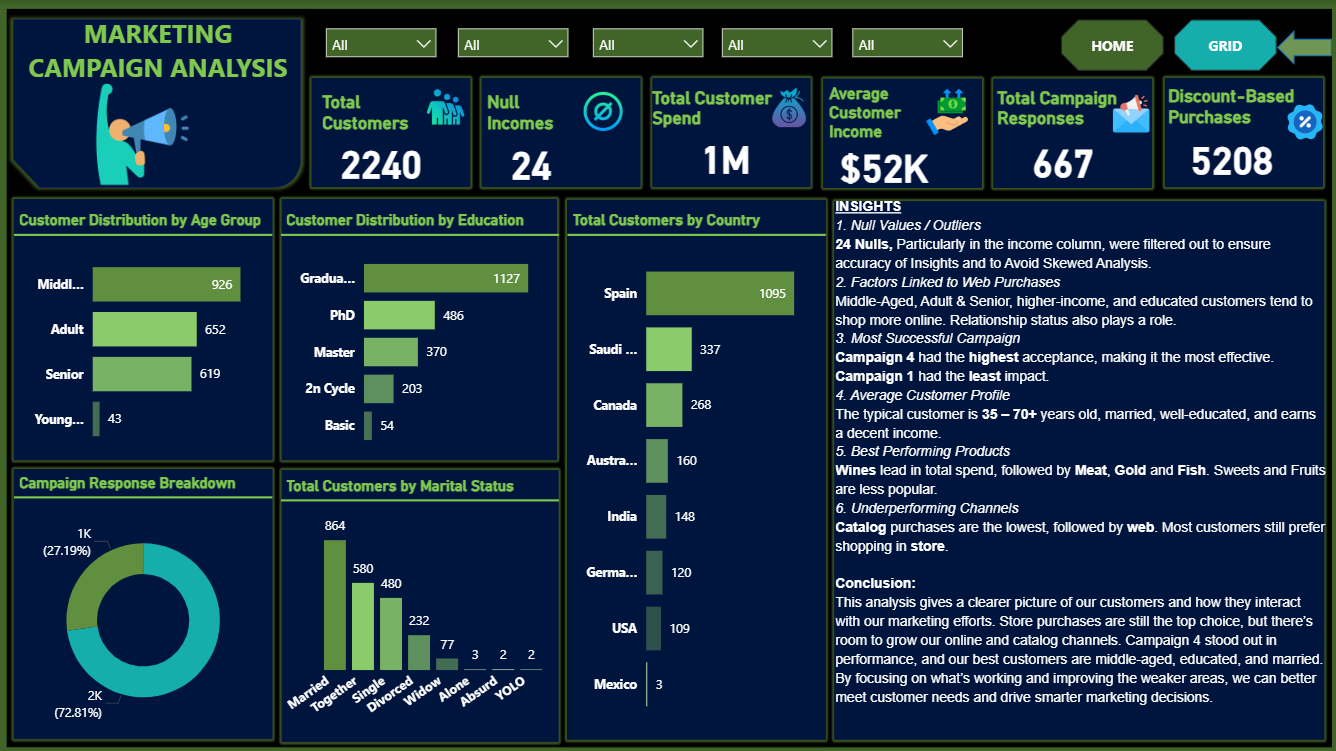

This screenshot's page, from the dashboard's own definition file:
{"tool":"powerbi","page":{"name":"GRID","canvas":[1280,720],"ordinal":1},"visuals":[{"type":"barChart","title":"Customer Distribution by Age Group","fields":{"Category":["marketing_data.Age Group"],"Y":["Measure Table.Total Customers"]},"box":[14.3,202,246.5,238.6],"z":0},{"type":"barChart","title":"Customer Distribution by Education","fields":{"Y":["Measure Table.Total Customers"],"Category":["marketing_data.Education"]},"box":[268.8,202,265.6,238.6],"z":1000},{"type":"columnChart","fields":{"Y":["Measure Table.Total Customers"],"Category":["marketing_data.Marital Status"]},"box":[268.8,454.9,265.6,246.5],"z":2000},{"type":"textbox","box":[14.3,9.5,275.2,95.4],"z":3000},{"type":"card","title":"Total Customers","fields":{"Values":["Measure Table.Total Customers"]},"box":[303.8,87.5,122.5,93.8],"z":4000},{"type":"image","box":[402.4,68.4,47.7,66.8],"z":5000},{"type":"card","title":"Total Campaign Responses","fields":{"Values":["Measure Table.Total Accepted Campaigns"]},"box":[948,82.7,135.2,100.2],"z":6000},{"type":"pageNavigator","box":[1014.8,19.1,206.8,49.3],"z":7000},{"type":"shape","box":[1220,28.6,52.5,33.4],"z":8000},{"type":"card","title":"Null Incomes","fields":{"Values":["Measure Table.null Incomes"]},"box":[461.1,86.8,93.8,95.4],"z":9000},{"type":"image","box":[553.3,72.5,47.7,66.8],"z":10000},{"type":"card","title":"Total Customer Spend","fields":{"Values":["Measure Table.Total Spend"]},"box":[618.5,83.6,149.5,93.8],"z":11000},{"type":"image","box":[729.9,69.3,47.7,68.4],"z":12000},{"type":"card","title":"Average Customer Income","fields":{"Values":["Measure Table.Average Income"]},"box":[787.4,79.5,114.5,100.2],"z":13000},{"type":"image","box":[878,70,54.1,73.2],"z":14000},{"type":"card","title":"Discount-Based Purchases","fields":{"Values":["Measure Table.Discount Purchases"]},"box":[1111.8,81.1,130.4,98.6],"z":15000},{"type":"barChart","fields":{"Category":["marketing_data.Country"],"Y":["Measure Table.Total Customers"]},"box":[542.4,202,246.5,499.5],"z":16000},{"type":"slicer","fields":{"Values":["marketing_data.Age Group"]},"box":[302.2,17.5,125.7,60.4],"z":17000},{"type":"slicer","fields":{"Values":["marketing_data.Education"]},"box":[427.9,17.5,125.7,60.4],"z":18000},{"type":"slicer","fields":{"Values":["marketing_data.Marital Status"]},"box":[556.7,17.5,125.7,60.4],"z":19000},{"type":"slicer","fields":{"Values":["Channels.Channel"]},"box":[680.8,17.5,125.7,60.4],"z":20000},{"type":"slicer","fields":{"Values":["marketing_data.Campaign Accepted"]},"box":[804.8,17.5,125.7,60.4],"z":21000},{"type":"textbox","box":[793.7,182.4,478.8,537.6],"z":22000},{"type":"donutChart","title":"Campaign Response Breakdown","fields":{"Category":["marketing_data.Campaign Accepted"],"Y":["Measure Table.Total Customers"]},"box":[14.3,453.3,246.5,256.1],"z":23000},{"type":"image","box":[1057.8,74.8,47.7,68.4],"z":24000},{"type":"image","box":[1223.2,82.7,47.7,66.8],"z":25000},{"type":"image","box":[68.4,65.2,136.8,124.1],"z":26000}]}

Visuals, with their boxes in screenshot pixels (x1, y1, x2, y2), scaled from the page's 1280x720 canvas onto the 1336x751 screenshot:
"Customer Distribution by Age Group" barChart: [left=15, top=211, right=272, bottom=460]
"Customer Distribution by Education" barChart: [left=281, top=211, right=558, bottom=460]
columnChart - Measure Table.Total Customers x marketing_data.Marital Status: [left=281, top=474, right=558, bottom=732]
textbox: [left=15, top=10, right=302, bottom=109]
"Total Customers" card: [left=317, top=91, right=445, bottom=189]
image: [left=420, top=71, right=470, bottom=141]
"Total Campaign Responses" card: [left=989, top=86, right=1131, bottom=191]
pageNavigator: [left=1059, top=20, right=1275, bottom=71]
shape: [left=1273, top=30, right=1328, bottom=65]
"Null Incomes" card: [left=481, top=91, right=579, bottom=190]
image: [left=578, top=76, right=627, bottom=145]
"Total Customer Spend" card: [left=646, top=87, right=802, bottom=185]
image: [left=762, top=72, right=812, bottom=144]
"Average Customer Income" card: [left=822, top=83, right=941, bottom=187]
image: [left=916, top=73, right=973, bottom=149]
"Discount-Based Purchases" card: [left=1160, top=85, right=1297, bottom=187]
barChart - marketing_data.Country x Measure Table.Total Customers: [left=566, top=211, right=823, bottom=732]
slicer - marketing_data.Age Group: [left=315, top=18, right=447, bottom=81]
slicer - marketing_data.Education: [left=447, top=18, right=578, bottom=81]
slicer - marketing_data.Marital Status: [left=581, top=18, right=712, bottom=81]
slicer - Channels.Channel: [left=711, top=18, right=842, bottom=81]
slicer - marketing_data.Campaign Accepted: [left=840, top=18, right=971, bottom=81]
textbox: [left=828, top=190, right=1328, bottom=750]
"Campaign Response Breakdown" donutChart: [left=15, top=473, right=272, bottom=740]
image: [left=1104, top=78, right=1154, bottom=149]
image: [left=1277, top=86, right=1327, bottom=156]
image: [left=71, top=68, right=214, bottom=197]
